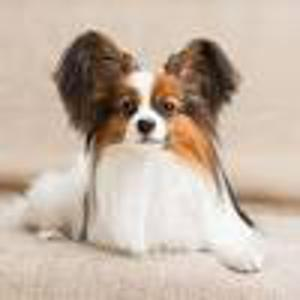yell: (23, 30, 267, 272)
